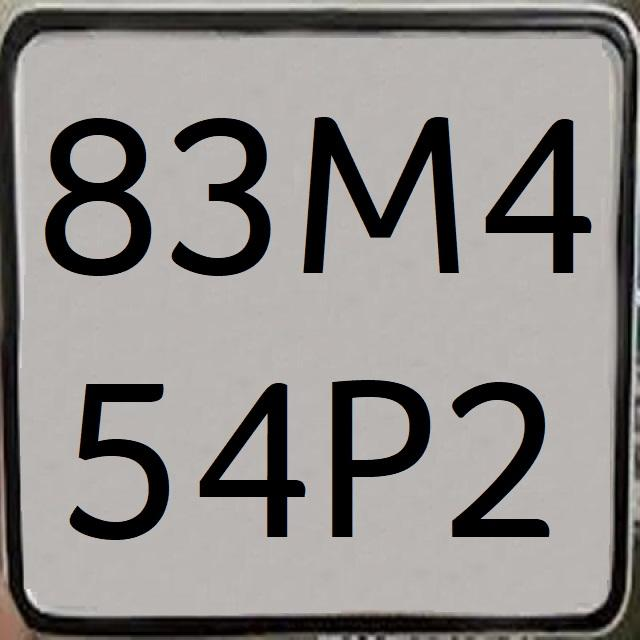2: (444, 371, 562, 555)
3: (168, 103, 278, 285)
4: (483, 98, 598, 286), (200, 353, 308, 549)
5: (54, 360, 174, 552)
8: (33, 96, 154, 290)
M: (302, 97, 469, 282)
P: (324, 365, 432, 555)
